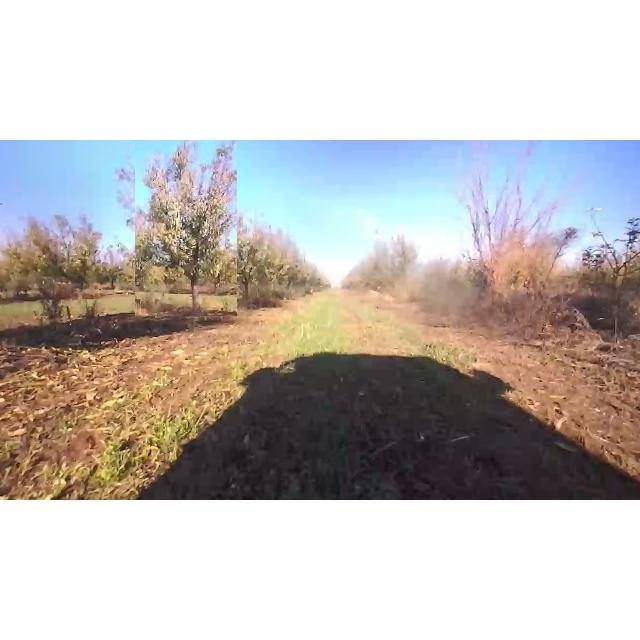direk: (458, 140, 578, 318), (135, 140, 237, 316), (2, 210, 106, 318), (222, 213, 268, 304), (93, 243, 135, 291)
